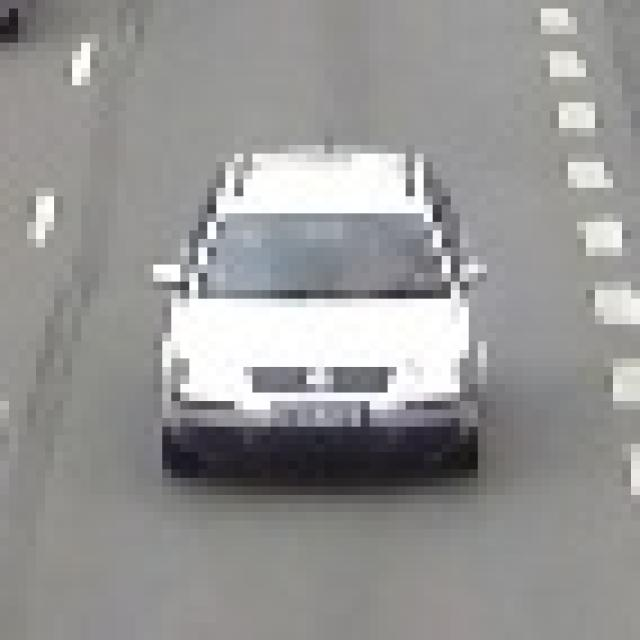SUV: (186, 156, 460, 466)
